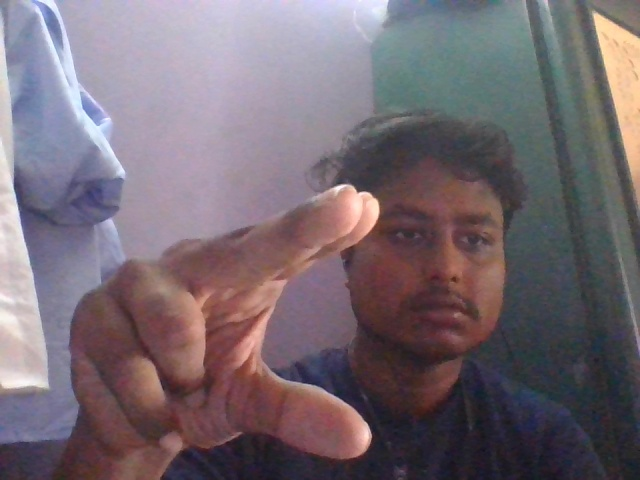no: (59, 178, 380, 480)
